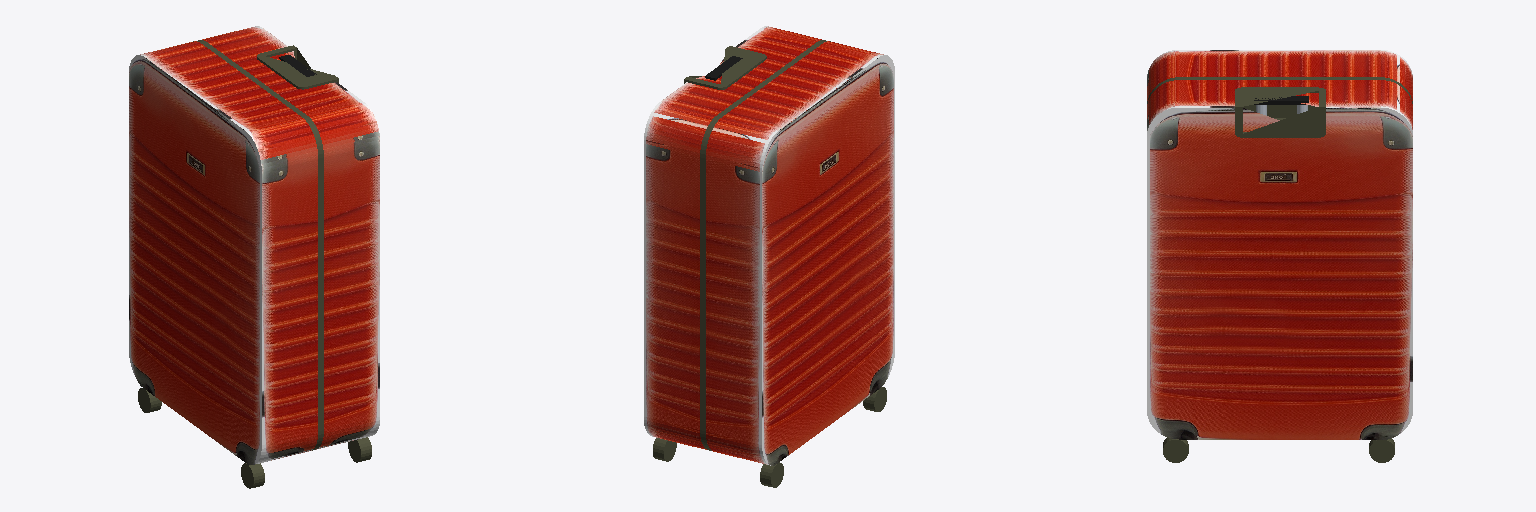
3 views of the same model, side by side, from view 1: azimuth 30°, elevation 25°; view 2: azimuth 150°, elevation 25°; view 3: azimuth 270°, elevation 25° (orthographic).
Parts seen in each view (by area): view 1: Mesh5 Group3 Group_11_1 Model, Mesh11 Group9 Group_11_1 Model, Mesh6 Group4 Group_11_1 Model, Mesh4 Group2 Group_11_1 Model; view 2: Mesh5 Group3 Group_11_1 Model, Mesh11 Group9 Group_11_1 Model, Mesh6 Group4 Group_11_1 Model, Mesh4 Group2 Group_11_1 Model; view 3: Mesh11 Group9 Group_11_1 Model, Mesh5 Group3 Group_11_1 Model, Mesh4 Group2 Group_11_1 Model, Mesh6 Group4 Group_11_1 Model, Mesh10 Group8 Group_11_1 Model, Mesh9 Group7 Group_11_1 Model.
Boxes of the visible parts, <box> form: Mesh5 Group3 Group_11_1 Model: <box>129,41,317,464</box>; Mesh11 Group9 Group_11_1 Model: <box>202,26,379,449</box>; Mesh6 Group4 Group_11_1 Model: <box>193,40,323,450</box>; Mesh4 Group2 Group_11_1 Model: <box>257,45,338,89</box>; Mesh5 Group3 Group_11_1 Model: <box>706,41,894,465</box>; Mesh11 Group9 Group_11_1 Model: <box>644,26,821,449</box>; Mesh6 Group4 Group_11_1 Model: <box>700,40,830,450</box>; Mesh4 Group2 Group_11_1 Model: <box>684,46,766,89</box>; Mesh11 Group9 Group_11_1 Model: <box>1147,80,1412,439</box>; Mesh5 Group3 Group_11_1 Model: <box>1147,50,1412,100</box>; Mesh4 Group2 Group_11_1 Model: <box>1235,87,1325,137</box>; Mesh6 Group4 Group_11_1 Model: <box>1147,77,1412,103</box>; Mesh10 Group8 Group_11_1 Model: <box>1163,437,1188,462</box>; Mesh9 Group7 Group_11_1 Model: <box>1369,438,1394,462</box>.
Size of the model in its own units: 8.47 by 23.83 by 16.08.
Materials: 4 (1 with a texture image).